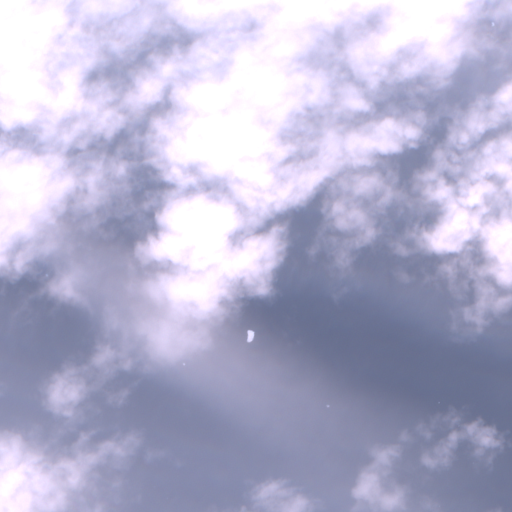Iceberg: (247, 330, 254, 341), (492, 22, 494, 25), (327, 405, 328, 407), (183, 363, 184, 364)
